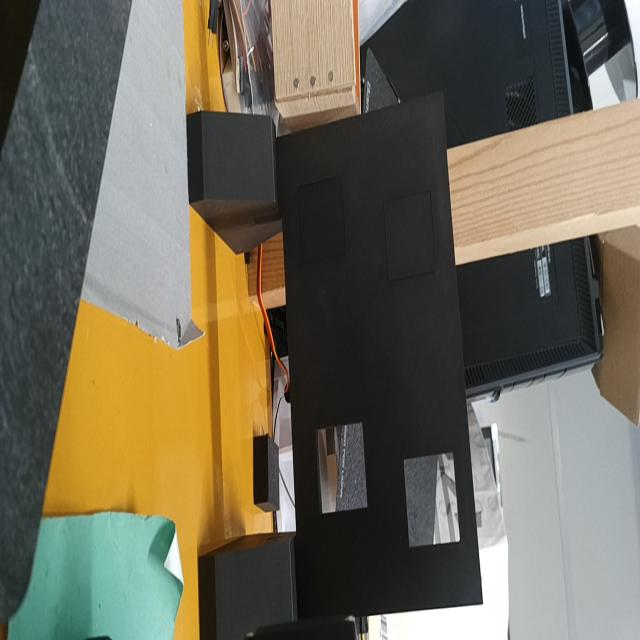Obstacle: (404, 454, 460, 548), (317, 426, 367, 515)
Wall: (276, 93, 482, 619)
